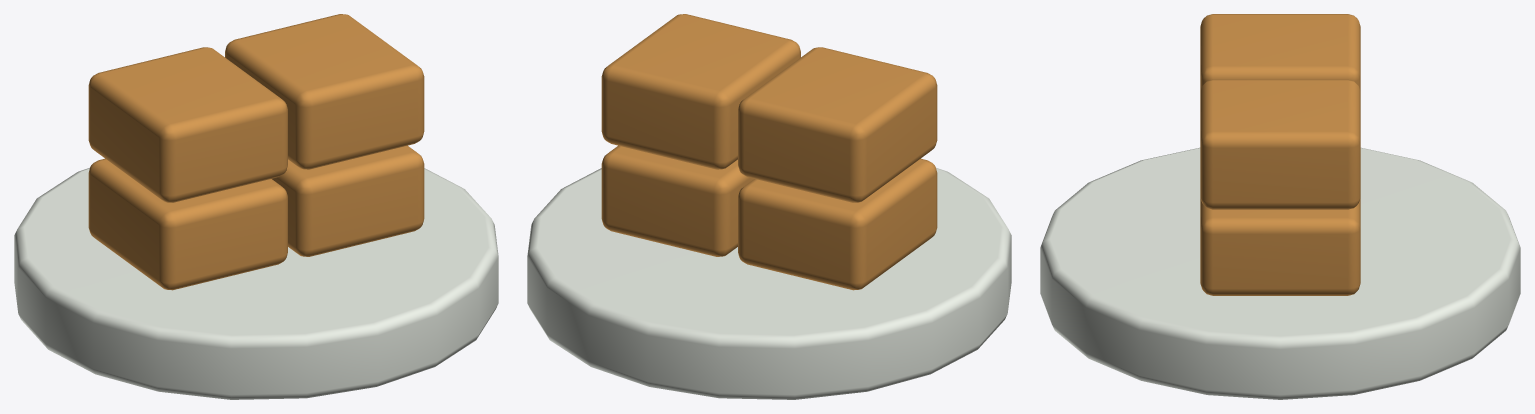
File: bonus_wall.glb
The picture shows the model from 3 angles, left to right: view 1: azimuth 30°, elevation 25°; view 2: azimuth 150°, elevation 25°; view 3: azimuth 270°, elevation 25°; orthographic projection.
Parts seen in each view (by area): view 1: Bonus_rounded_plinth002, Bonus_masonry002, Bonus_masonry003, Bonus_masonry, Bonus_masonry001; view 2: Bonus_rounded_plinth002, Bonus_masonry002, Bonus_masonry003, Bonus_masonry, Bonus_masonry001; view 3: Bonus_rounded_plinth002, Bonus_masonry003, Bonus_masonry001, Bonus_masonry002.
Boxes of the visible parts, x1,y1,x2,y2 form: Bonus_rounded_plinth002: (14, 168, 498, 399); Bonus_masonry002: (88, 47, 287, 202); Bonus_masonry003: (225, 14, 424, 169); Bonus_masonry: (88, 158, 287, 290); Bonus_masonry001: (272, 145, 424, 256); Bonus_rounded_plinth002: (527, 168, 1011, 399); Bonus_masonry002: (738, 47, 937, 202); Bonus_masonry003: (601, 14, 800, 169); Bonus_masonry: (738, 158, 937, 290); Bonus_masonry001: (601, 145, 753, 256); Bonus_rounded_plinth002: (1040, 147, 1520, 399); Bonus_masonry003: (1200, 79, 1360, 209); Bonus_masonry001: (1200, 198, 1360, 295); Bonus_masonry002: (1200, 14, 1360, 91).
Bounding box in the file's own units: 0.96 × 0.505 × 0.96.
